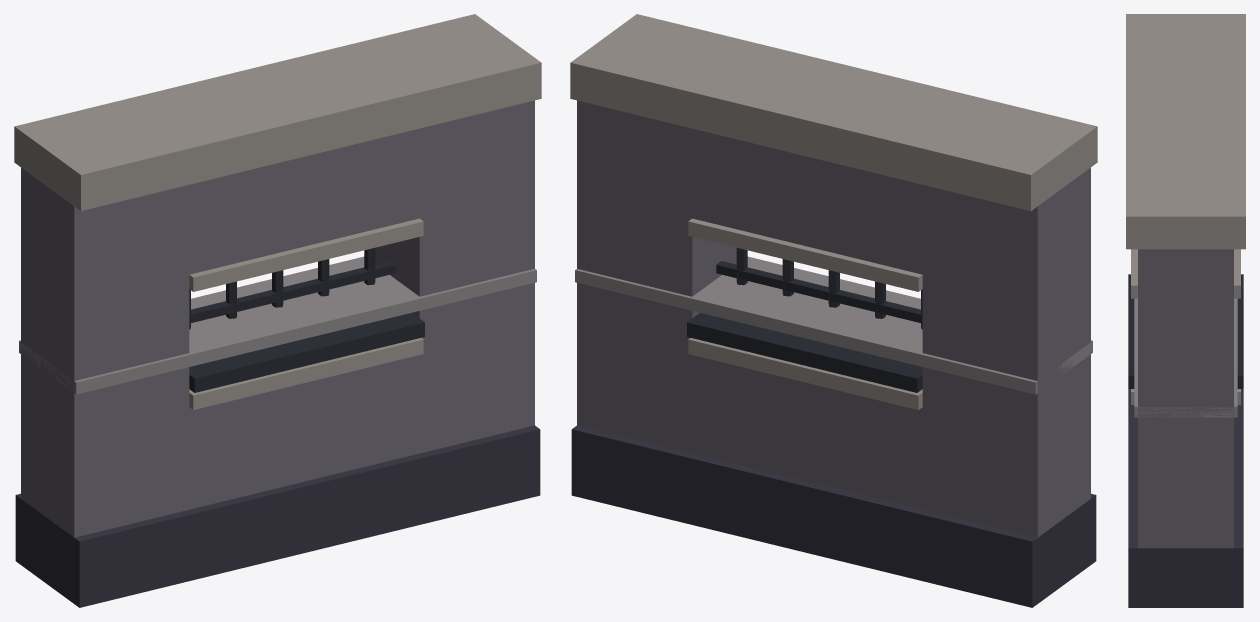
File: wall_window_bars.fbx
3 views of the same model, side by side, from view 1: azimuth 30°, elevation 25°; view 2: azimuth 150°, elevation 25°; view 3: azimuth 270°, elevation 25° (orthographic). The views are drawn at different scales.
Parts seen in each view (by area): view 1: wall_window_bars; view 2: wall_window_bars; view 3: wall_window_bars.
Boxes of the visible parts, x1,y1,x2,y2 form: wall_window_bars: [14, 14, 541, 607]; wall_window_bars: [570, 14, 1097, 607]; wall_window_bars: [1126, 14, 1245, 607].
Bounding box in the file's own units: 4 × 3.6 × 1.
